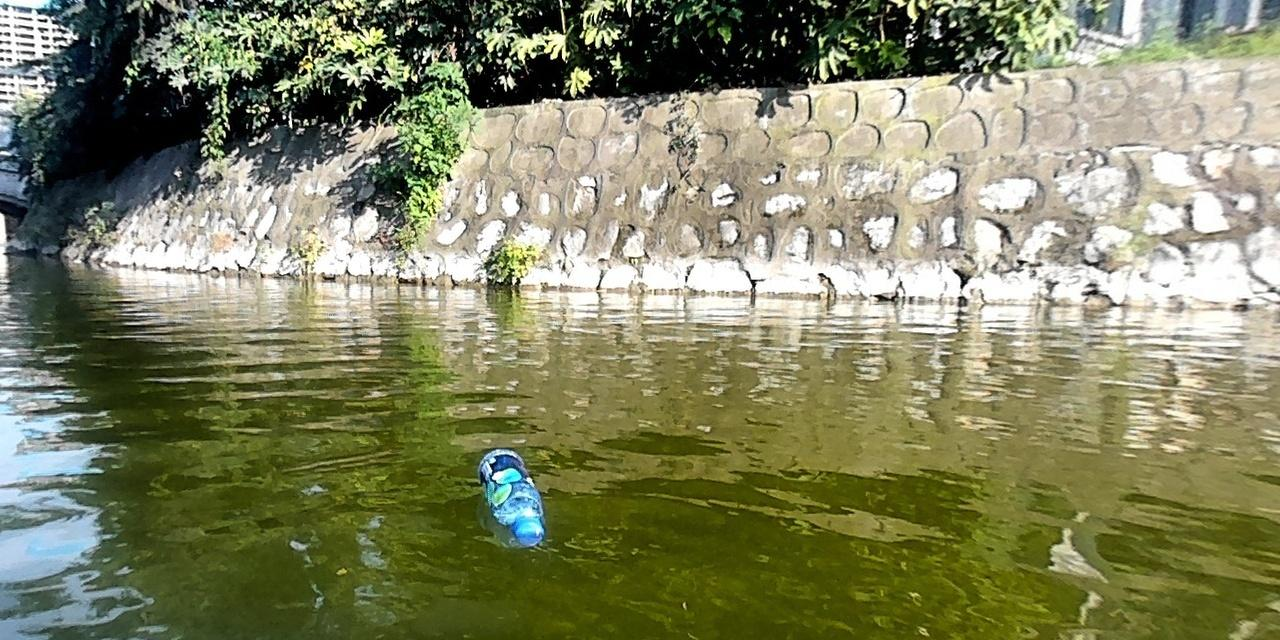bottle: (474, 443, 546, 544)
